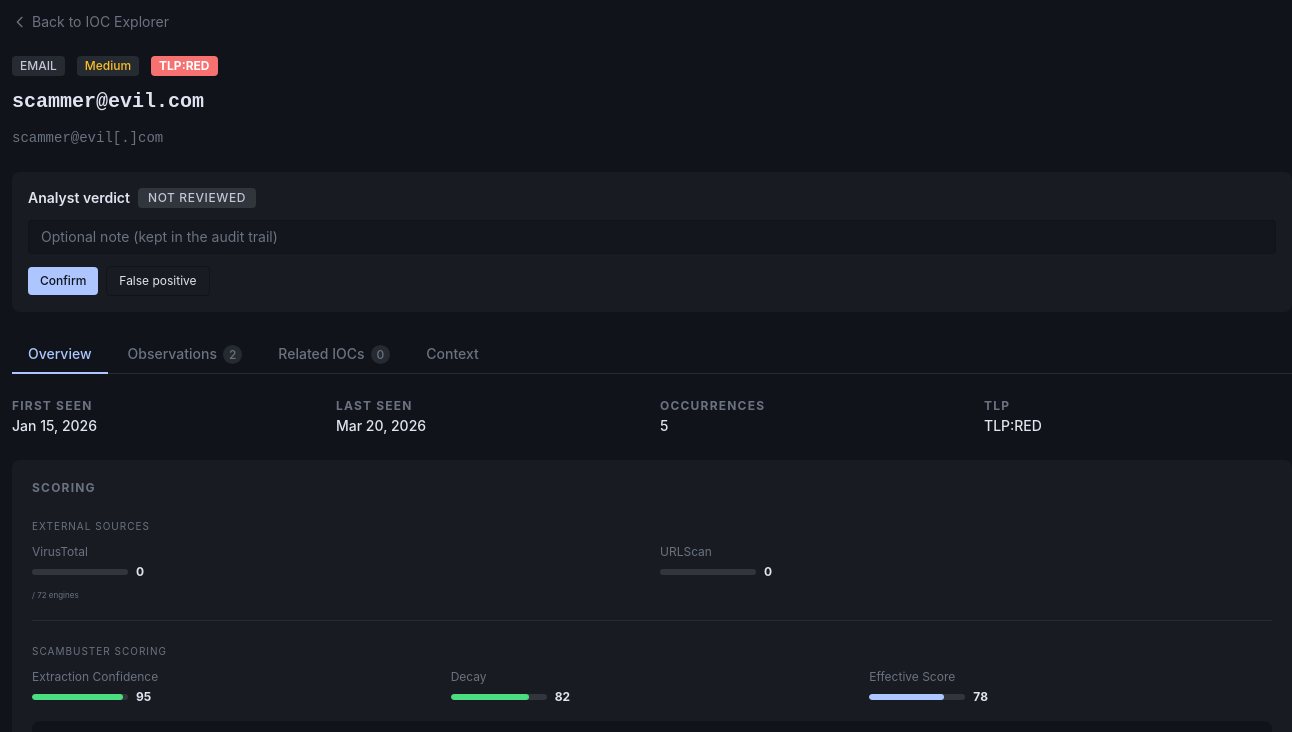
Scenario: IocDetail — coverage gaps › renders no context message
This screenshot has width=1292, height=732.
Expected: the heading "scammer@evil.com" is shown, [12,90,204,113]
Step 1. Click the button "Context" → (453, 355), box [410,336,495,374]
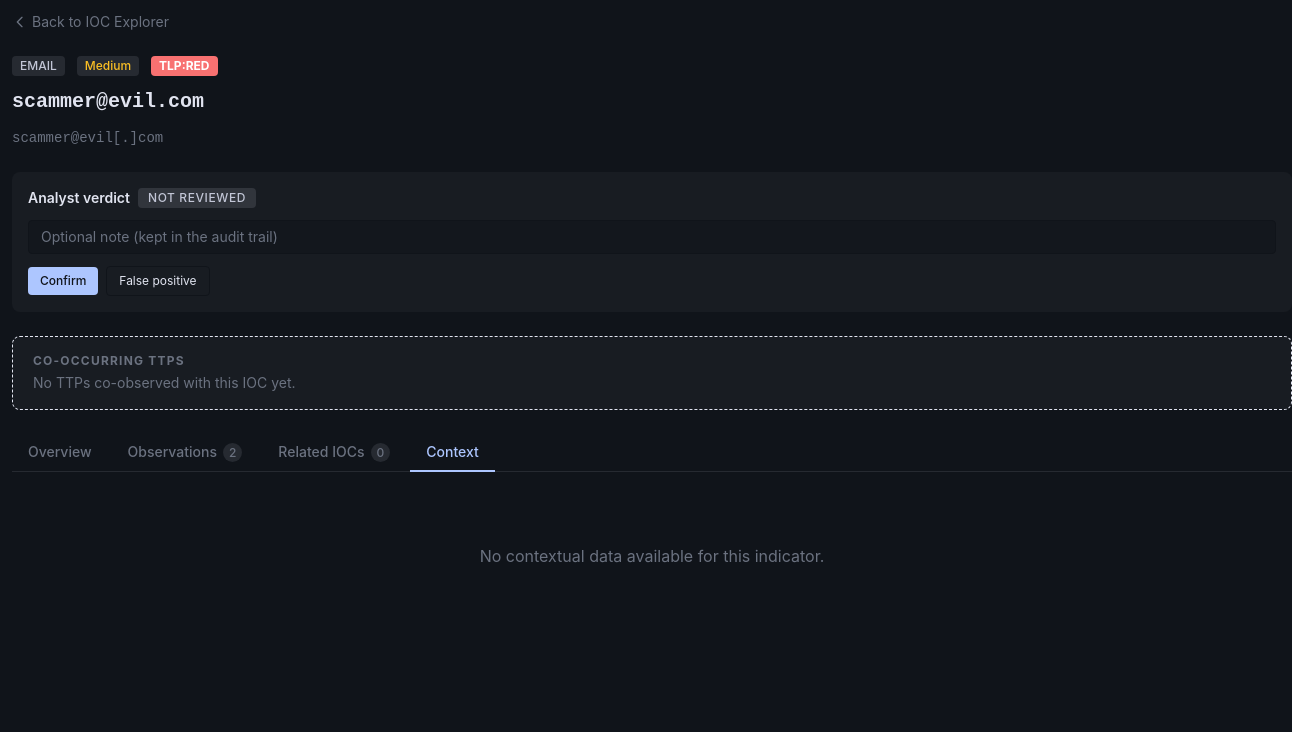
Expected: the text "No contextual data available for this indicator." is shown, [480,546,824,566]
